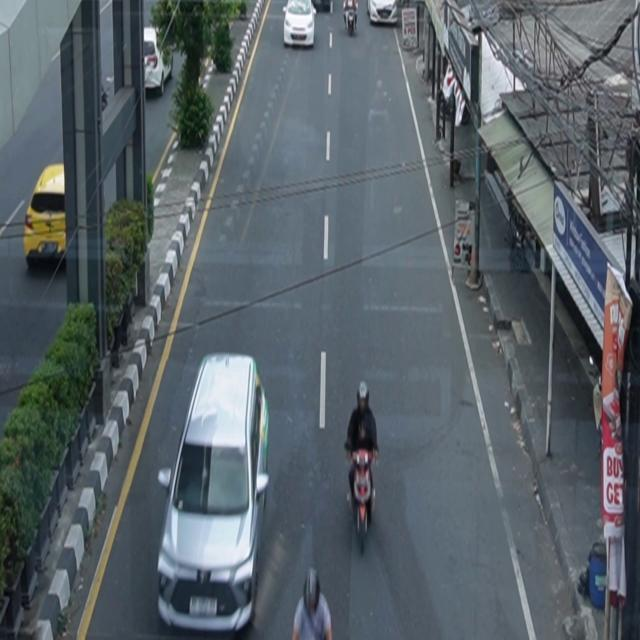bus: (157, 352, 270, 635)
car: (24, 163, 67, 269), (283, 1, 318, 49), (367, 1, 398, 26)
